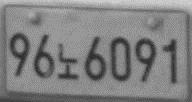0: (110, 35, 132, 81)
1: (163, 37, 179, 85)
6: (83, 35, 107, 81), (32, 34, 54, 79)
9: (133, 36, 158, 83), (9, 31, 30, 77)
노: (57, 42, 79, 81)
